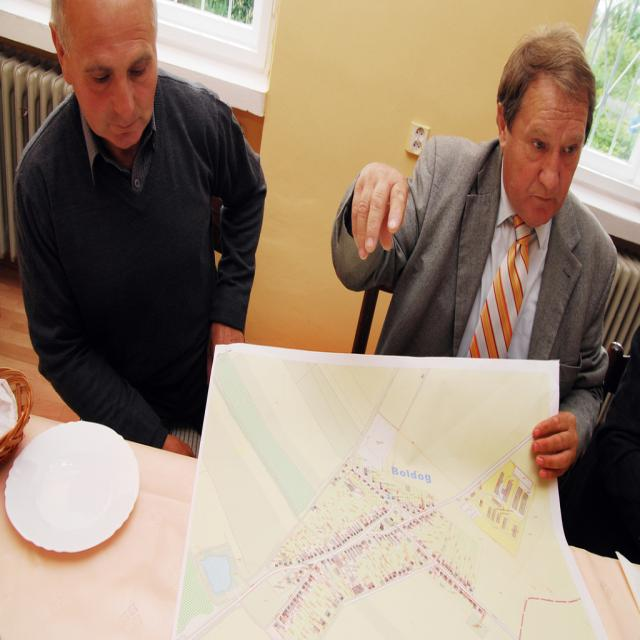non-organic waste: (17, 409, 145, 585)
